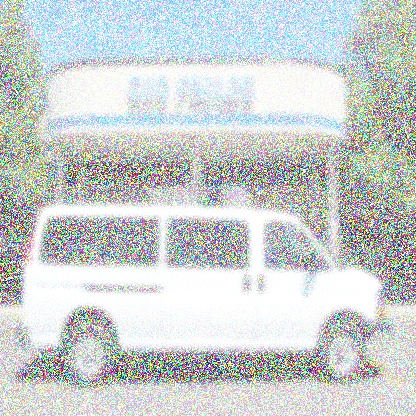Vehicle: (16, 206, 394, 388)
